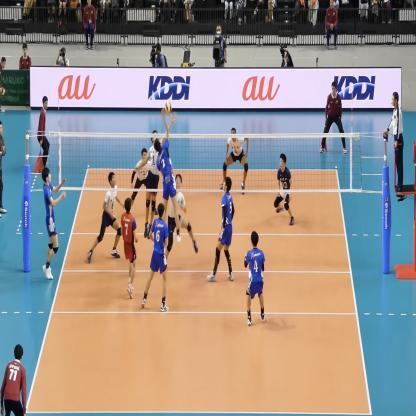spike: (154, 99, 184, 243)
